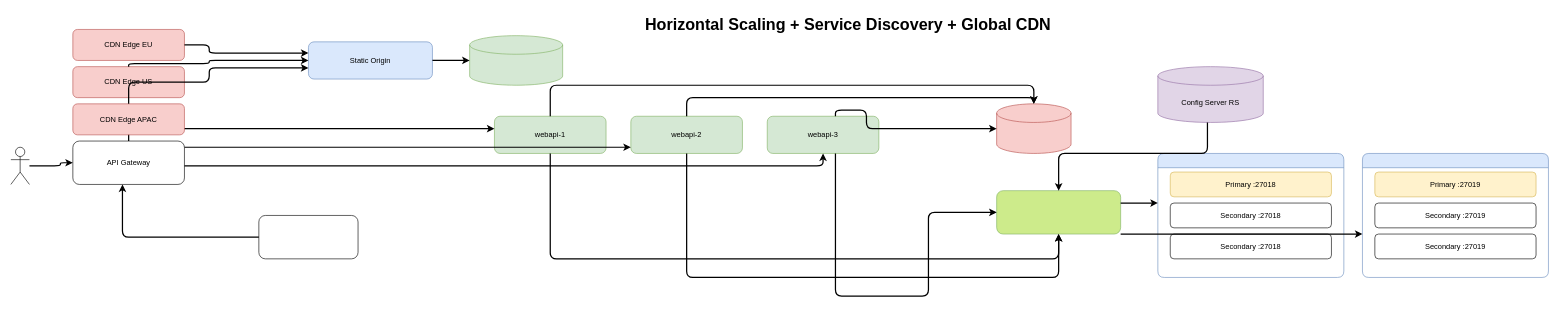
The diagram is 1559 pixels wide and 312 high, and some of its shapes have lost their labels. Each missing label, with the box of its shape:
Consul: (258, 215, 358, 259)
mongos (router): (996, 190, 1121, 234)
Redis: (996, 103, 1071, 153)
Shard1 RS (rsA): (1157, 153, 1344, 277)
Shard2 RS (rsB): (1362, 153, 1548, 277)
Static Assets: (469, 35, 563, 85)
User: (10, 147, 29, 184)
